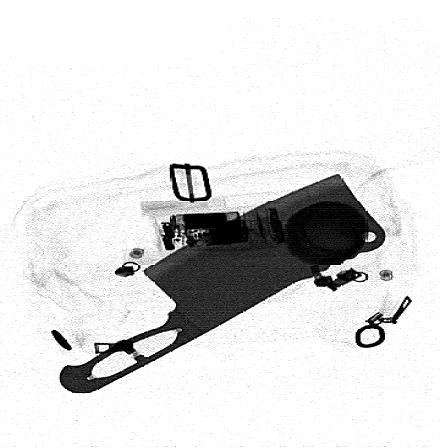Knife: (59, 171, 386, 394)
